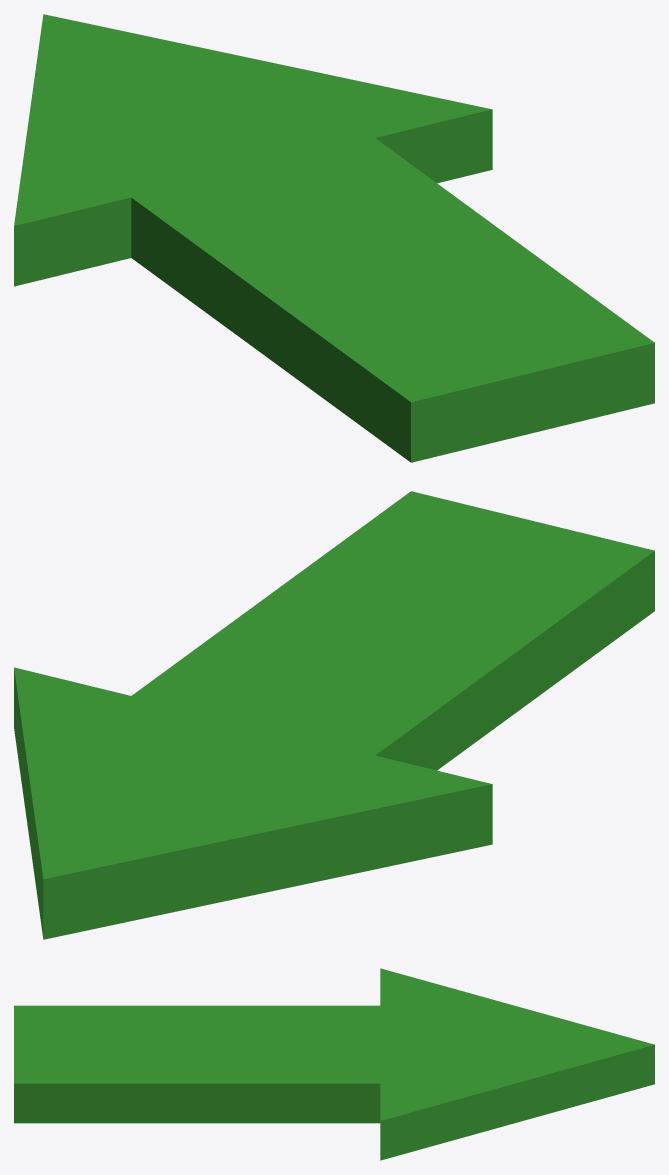
Rendered from arrow.glb.
3 views of the same model, one above another, from view 1: azimuth 30°, elevation 25°; view 2: azimuth 150°, elevation 25°; view 3: azimuth 270°, elevation 25° (orthographic). The views are drawn at different scales.
Visible parts, largest first — view 1: Vert; view 2: Vert; view 3: Vert.
Boxes of the visible parts, bbox=[...] form: Vert: bbox=[14, 14, 654, 462]; Vert: bbox=[14, 491, 654, 939]; Vert: bbox=[14, 968, 654, 1160].
Bounding box in the file's own units: 0.5784 × 0.0698 × 1.03.
